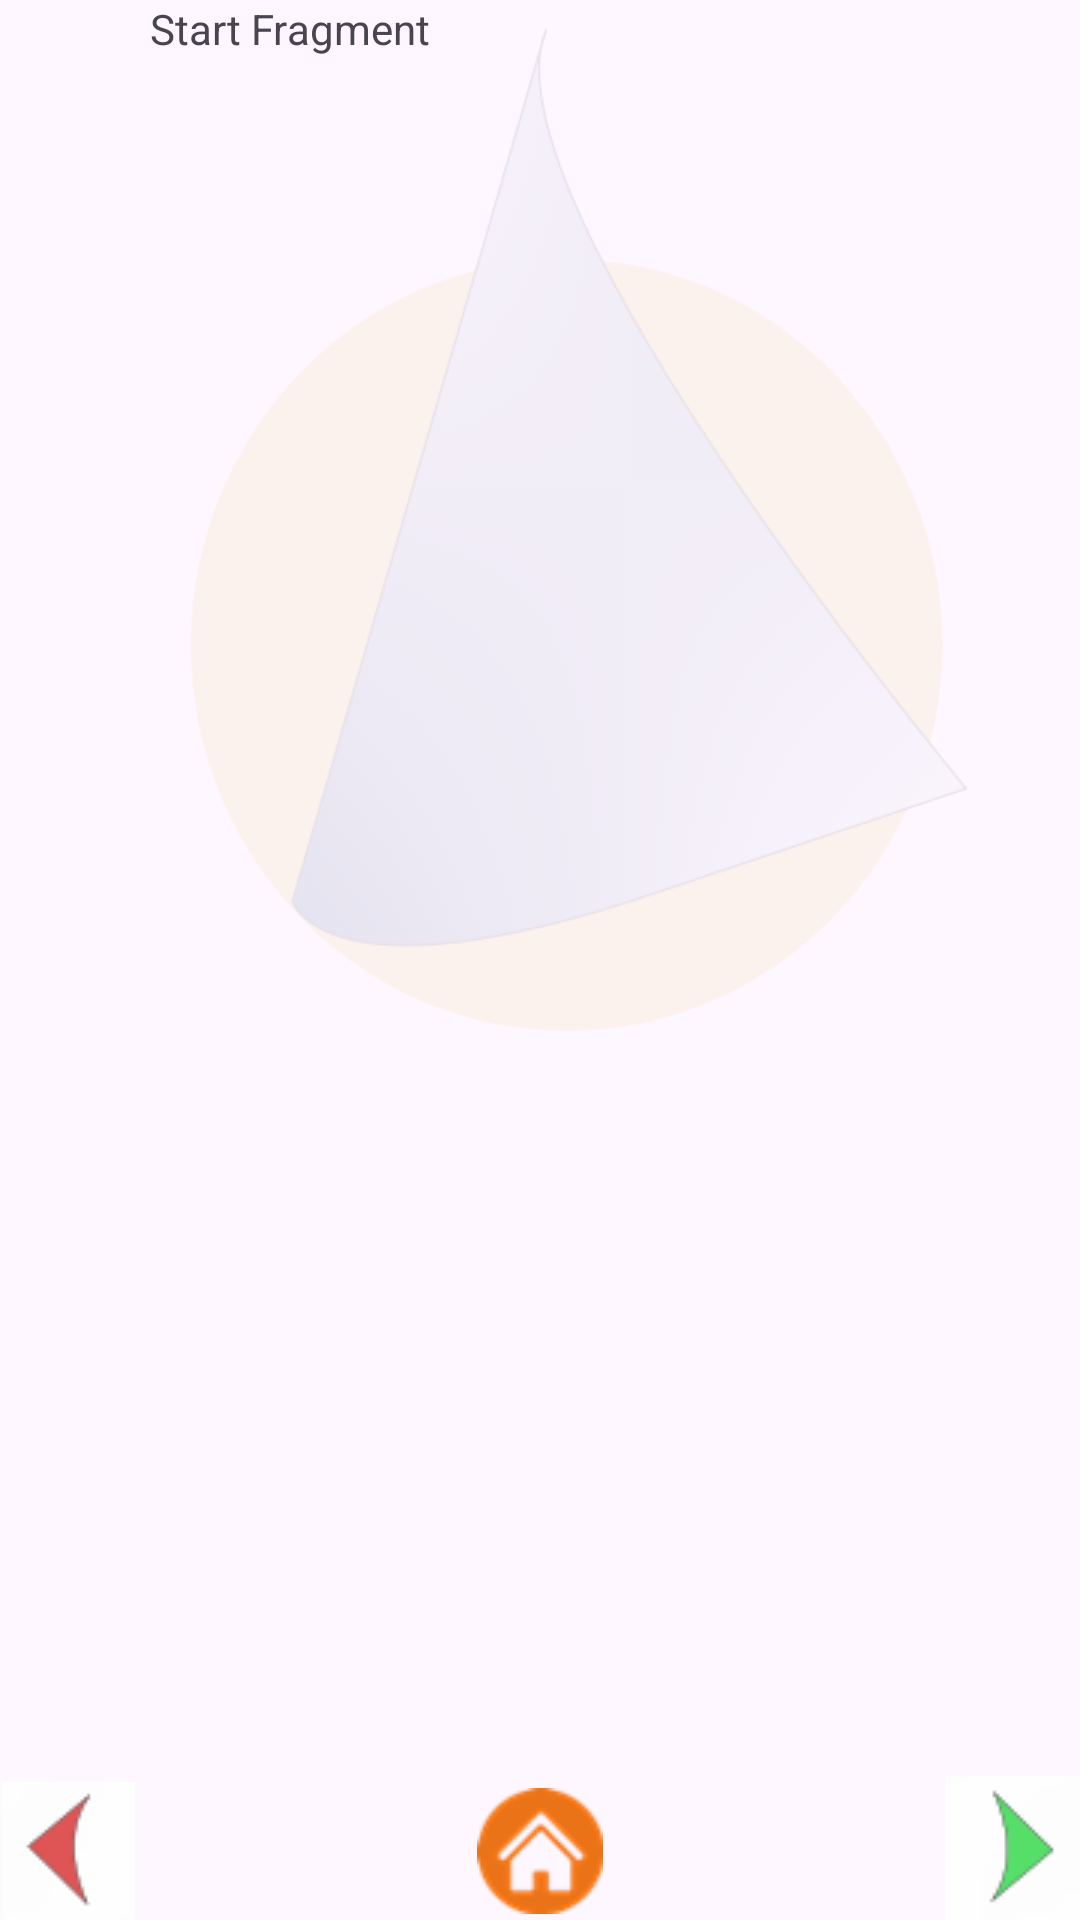

Screen size 1080px×1920px. Icon name, then its box in pixels as (x1, y1, x2, y2):
Home: (477, 1788, 603, 1914)
Left Nav: (26, 1793, 91, 1905)
Right Nav: (990, 1790, 1054, 1902)
